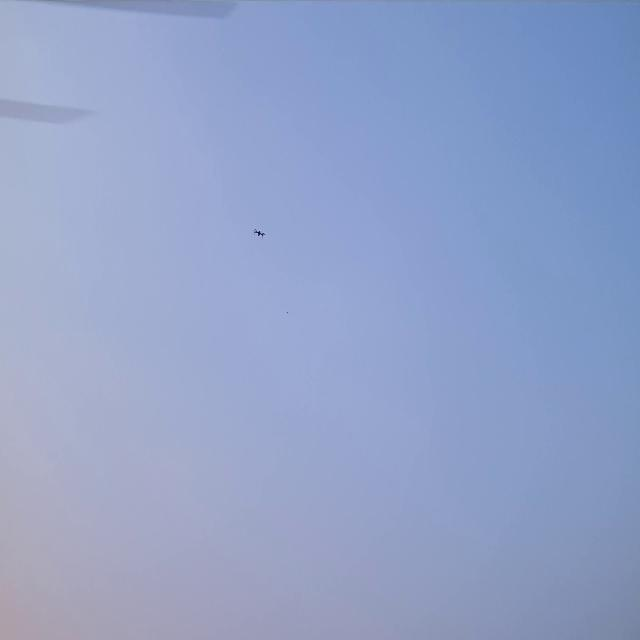UAV: (253, 226, 267, 240)
